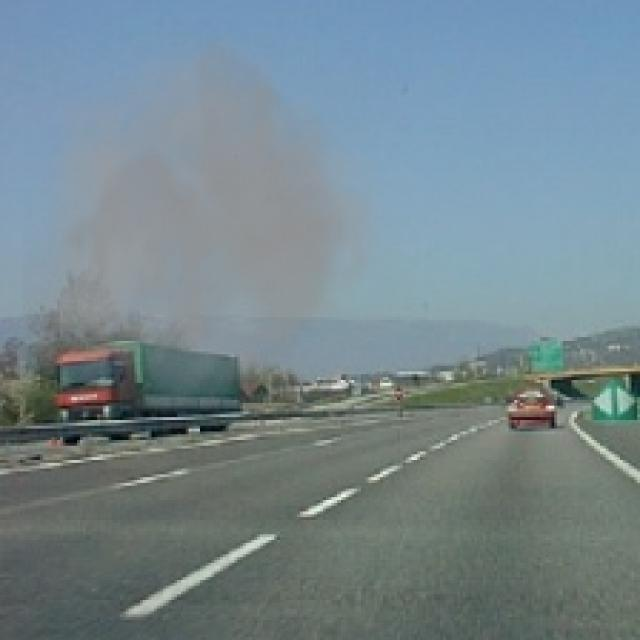Smoke: (23, 19, 420, 432)
